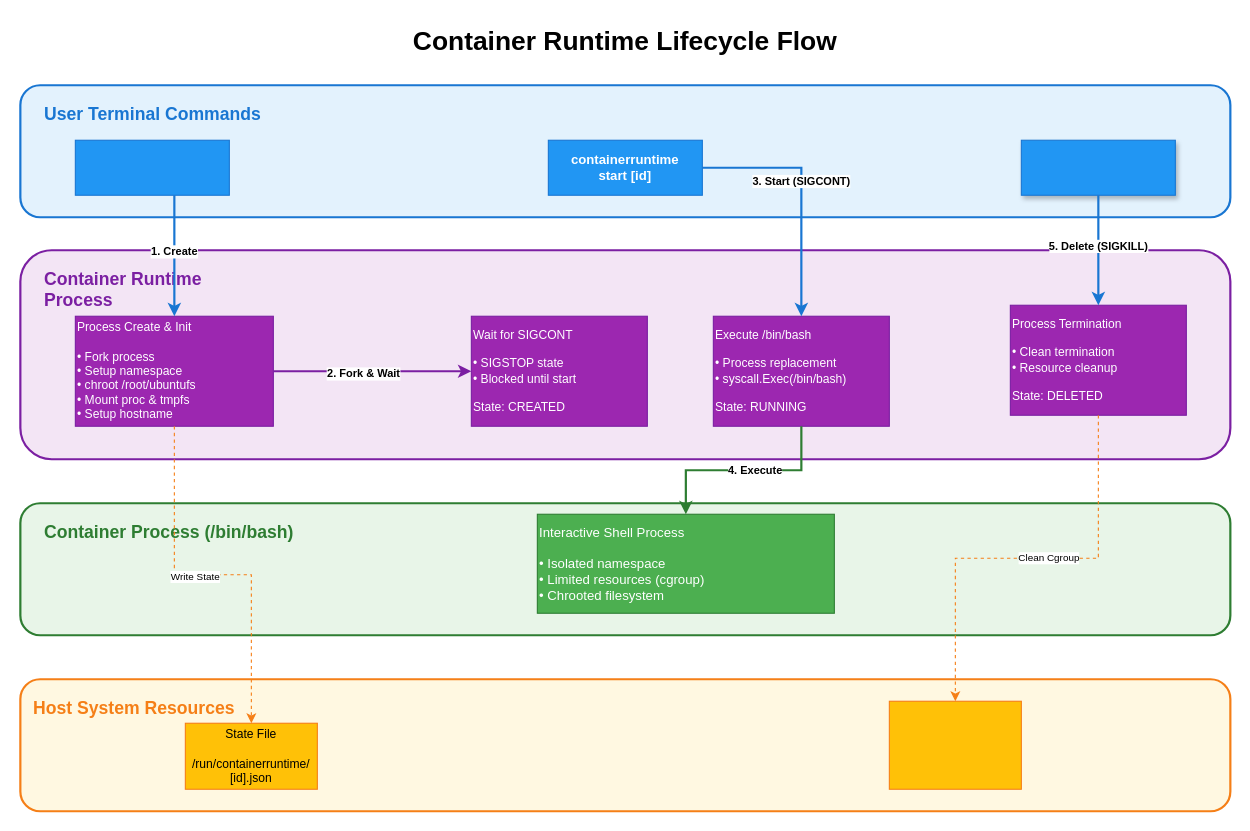
This 1250x831 diagram has some shape labels left out. The centre of each missing label's shape, as x and y in pixels:
Cgroup Files /sys/fs/cgroup/ container-[id]/: the point at 954,744
containerruntime create /bin/bash: the point at 151,167
containerruntime delete [id]: the point at 1099,169
